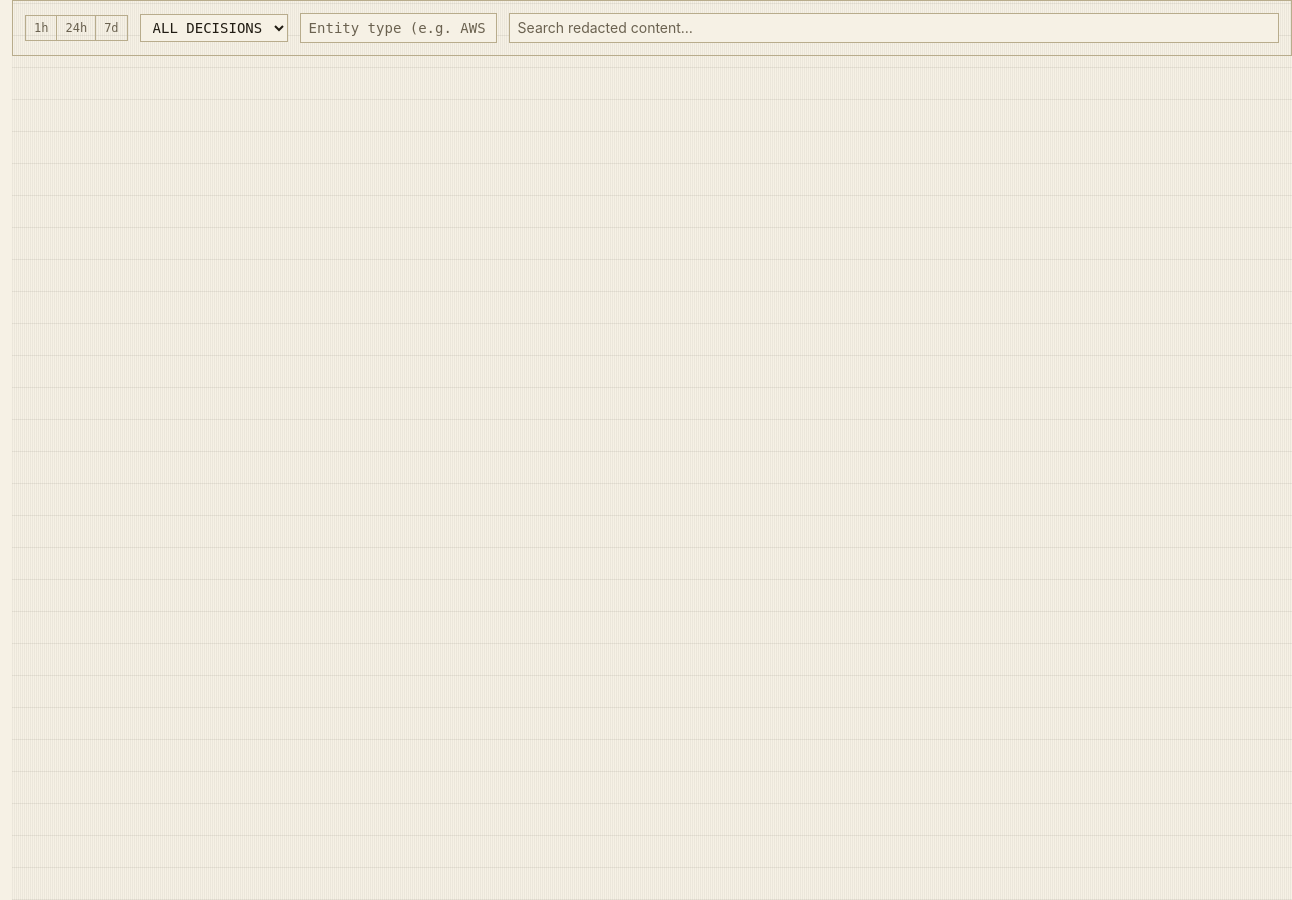
Test: AuditFilterBar › writes the free-text search into the URL query string (debounced)
The width and height of the screenshot is (1292, 900).
Step 1. Type "aws" into the field with placeholder "Search redacted content…" → (894, 28), box [509,13,1279,43]
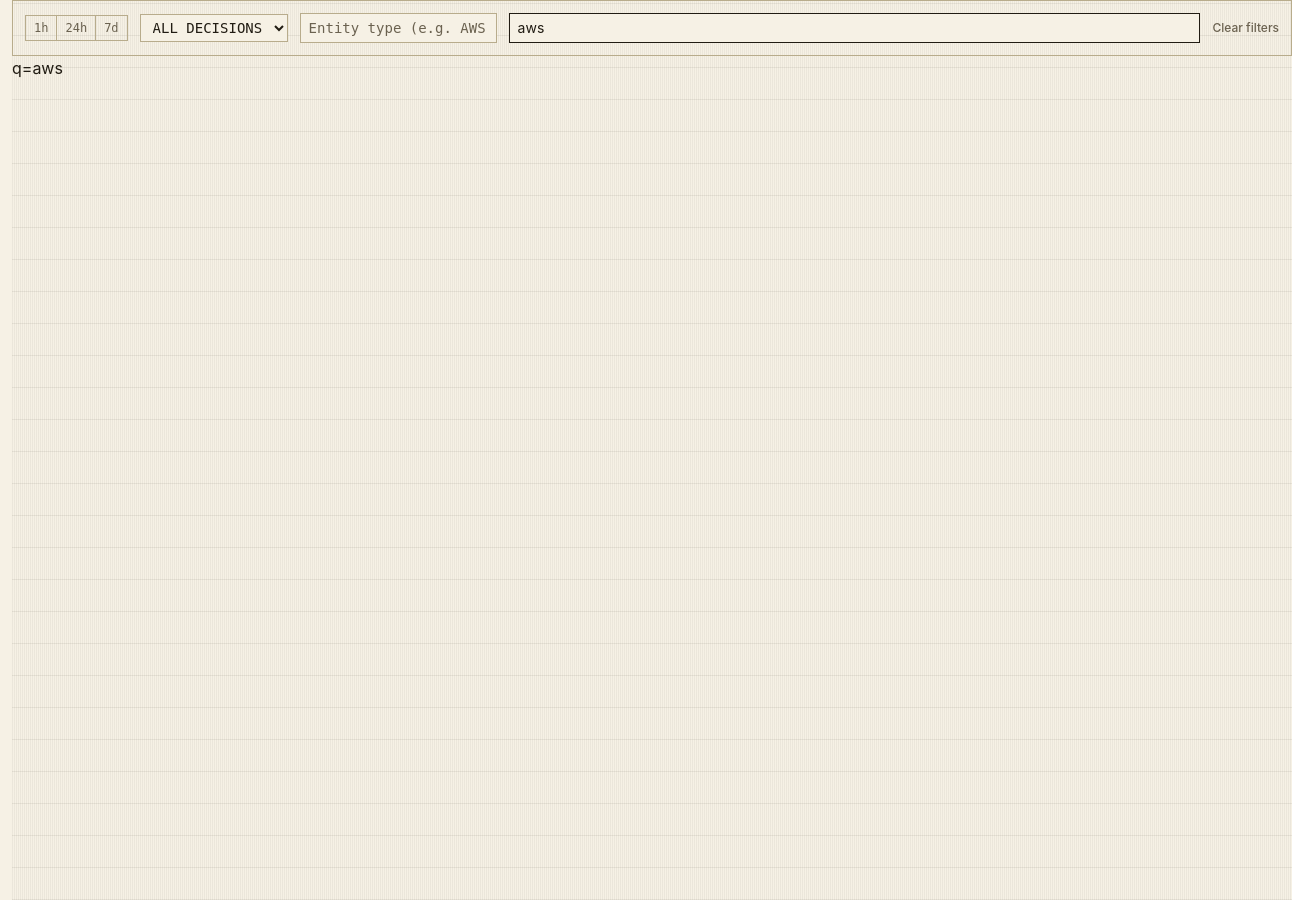
expect the text with test id "location-probe" reads "q=aws": met, box [12,58,63,78]
